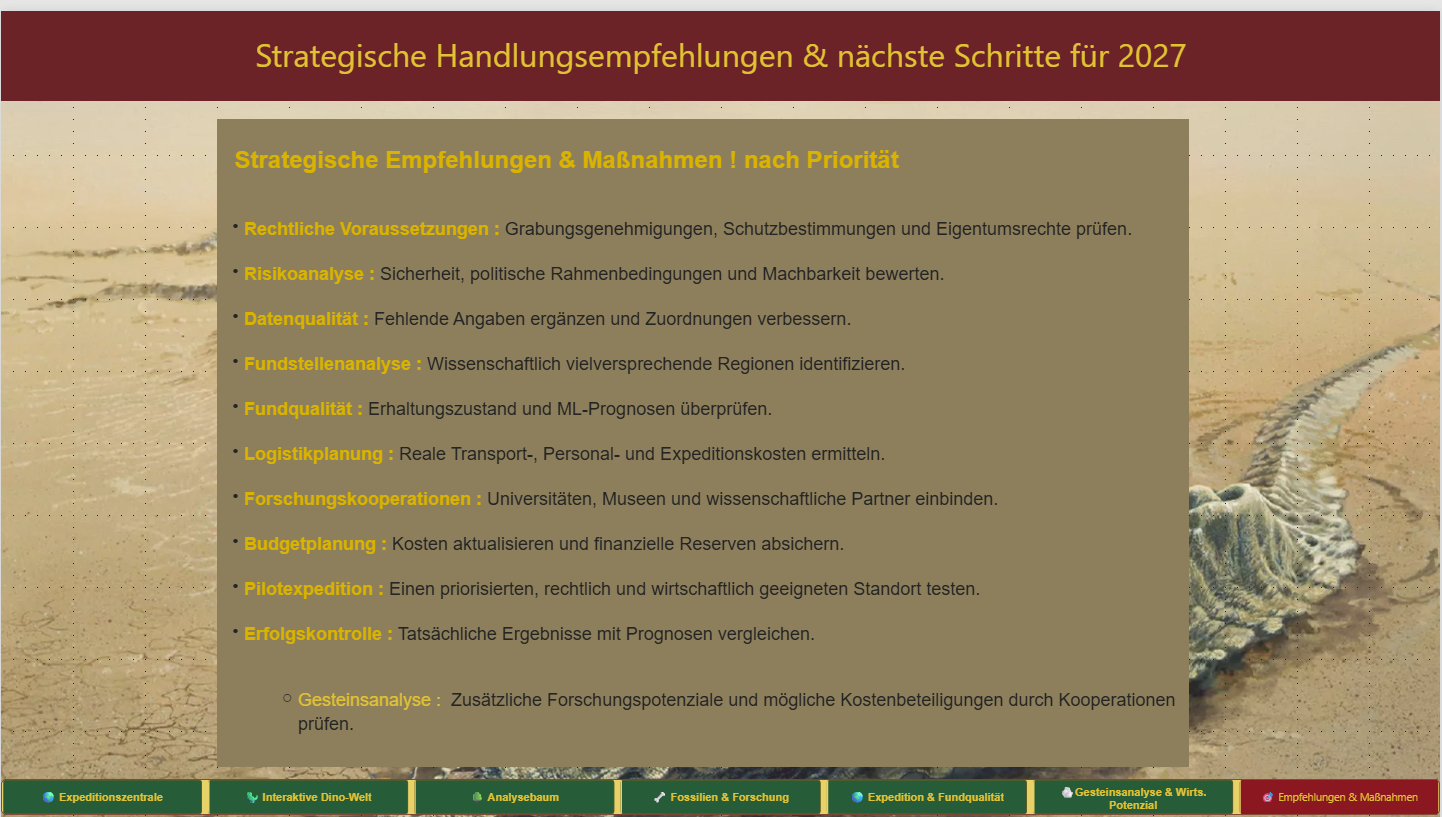

Layout of this report page (visuals, bound fields, positions):
{"tool":"powerbi","page":{"name":"🎯 Empfehlungen & Maßnahmen","canvas":[1920,1080],"ordinal":6},"visuals":[{"type":"textbox","box":[288,144,1296,864],"z":0},{"type":"textbox","box":[0,0,1920,120],"z":1000},{"type":"pageNavigator","box":[0,1024,1920,48],"z":2000}]}

Visuals, with their boxes in screenshot pixels (x1, y1, x2, y2), scaled from the page's 1920x1080 canvas onto the 1442x817 screenshot:
textbox: l=216, t=109, r=1190, b=763
textbox: l=0, t=0, r=1441, b=91
pageNavigator: l=0, t=775, r=1441, b=811
